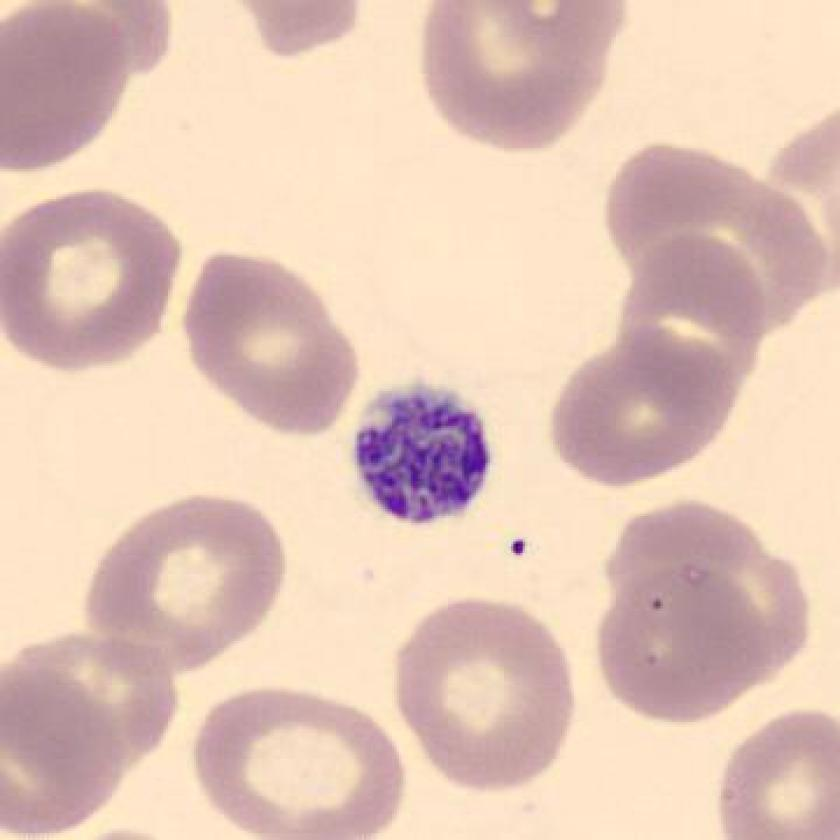platelets: (335, 371, 507, 533)
